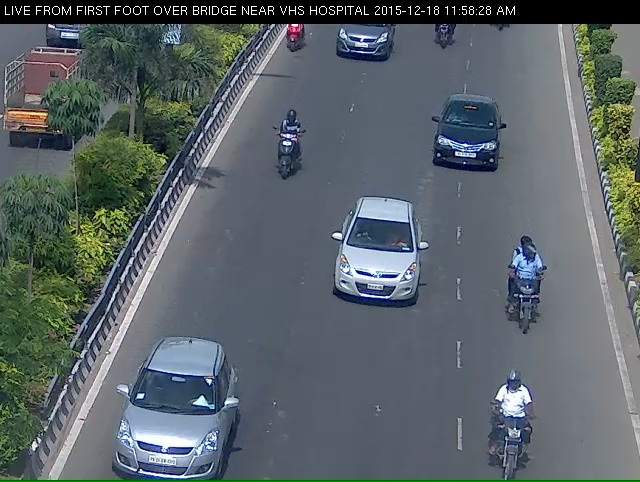Car: (107, 356, 222, 476), (335, 211, 409, 317), (437, 93, 508, 185), (326, 22, 390, 69)
Person: (482, 382, 534, 472), (507, 258, 549, 345), (265, 114, 309, 194), (272, 23, 306, 64), (429, 20, 456, 60)
